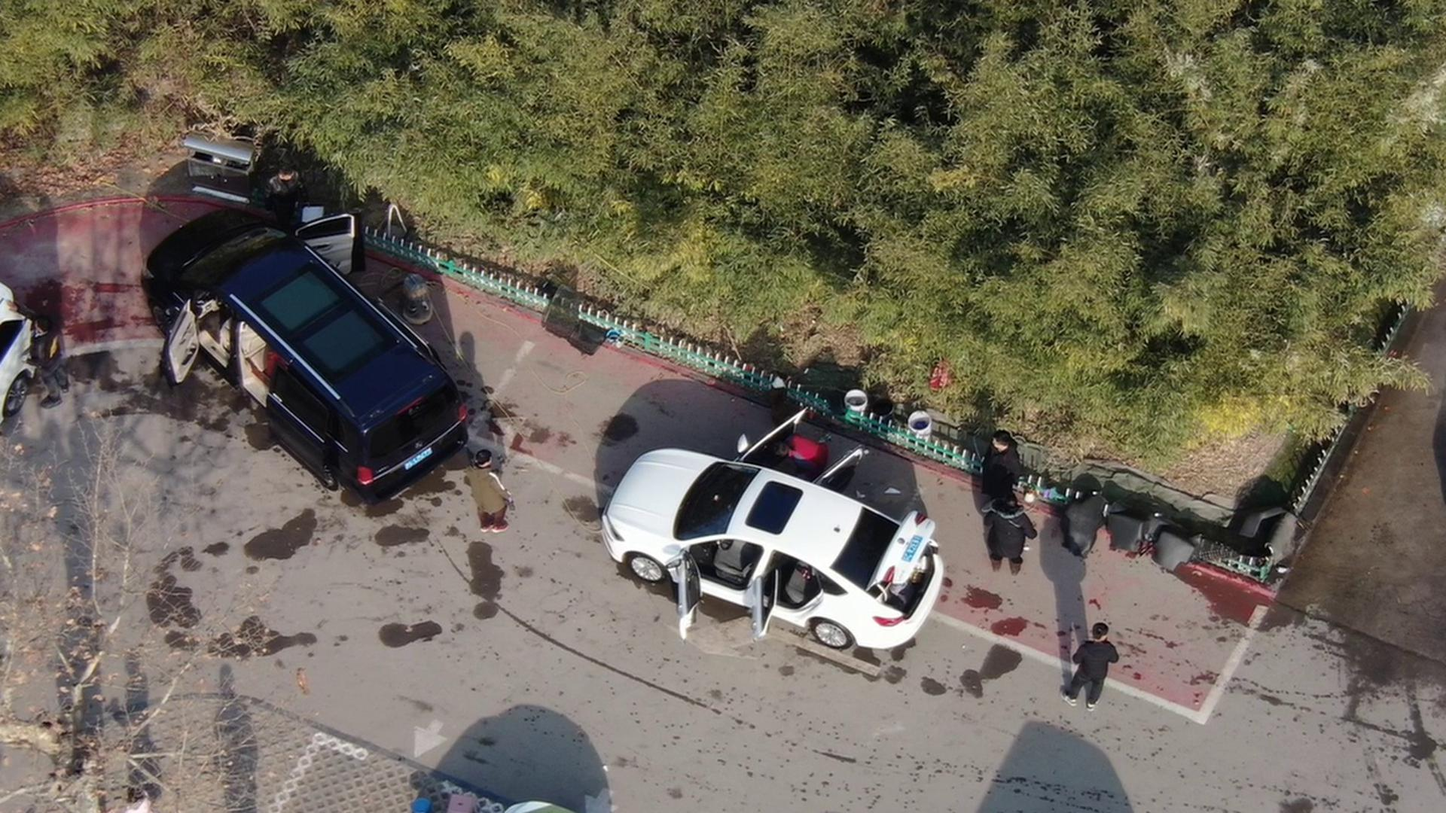human: (1056, 609, 1127, 706), (465, 440, 517, 540), (35, 318, 83, 414), (982, 500, 1036, 583), (258, 166, 319, 231), (982, 423, 1027, 498), (772, 430, 833, 477)
